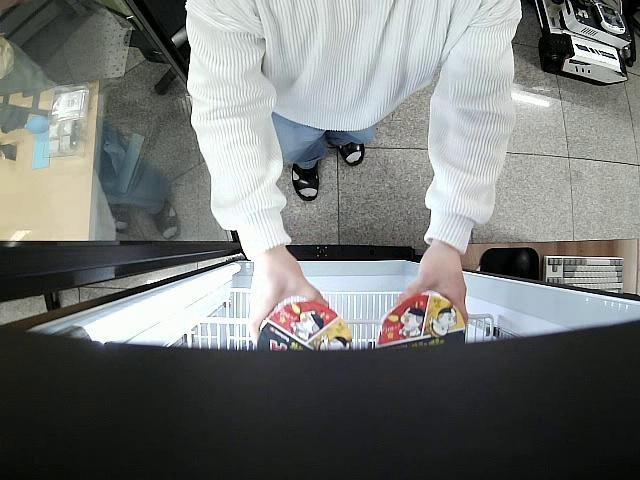07_buldak_L: (255, 299, 352, 352), (374, 292, 466, 347)
